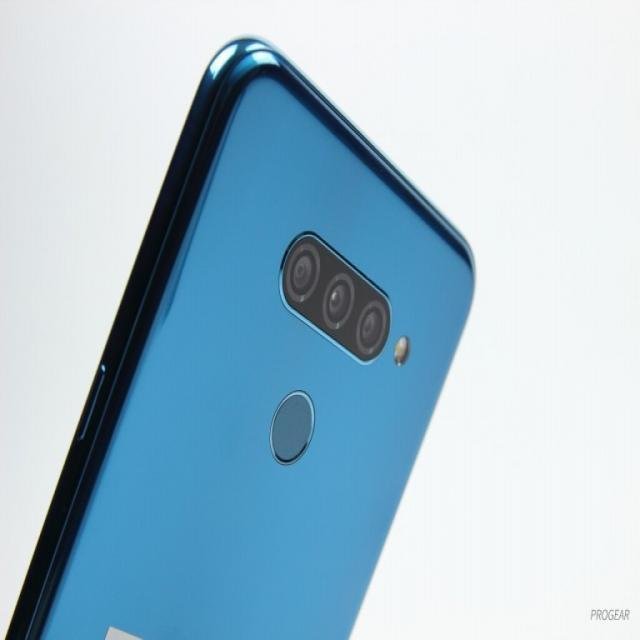phone: (7, 34, 478, 638)
